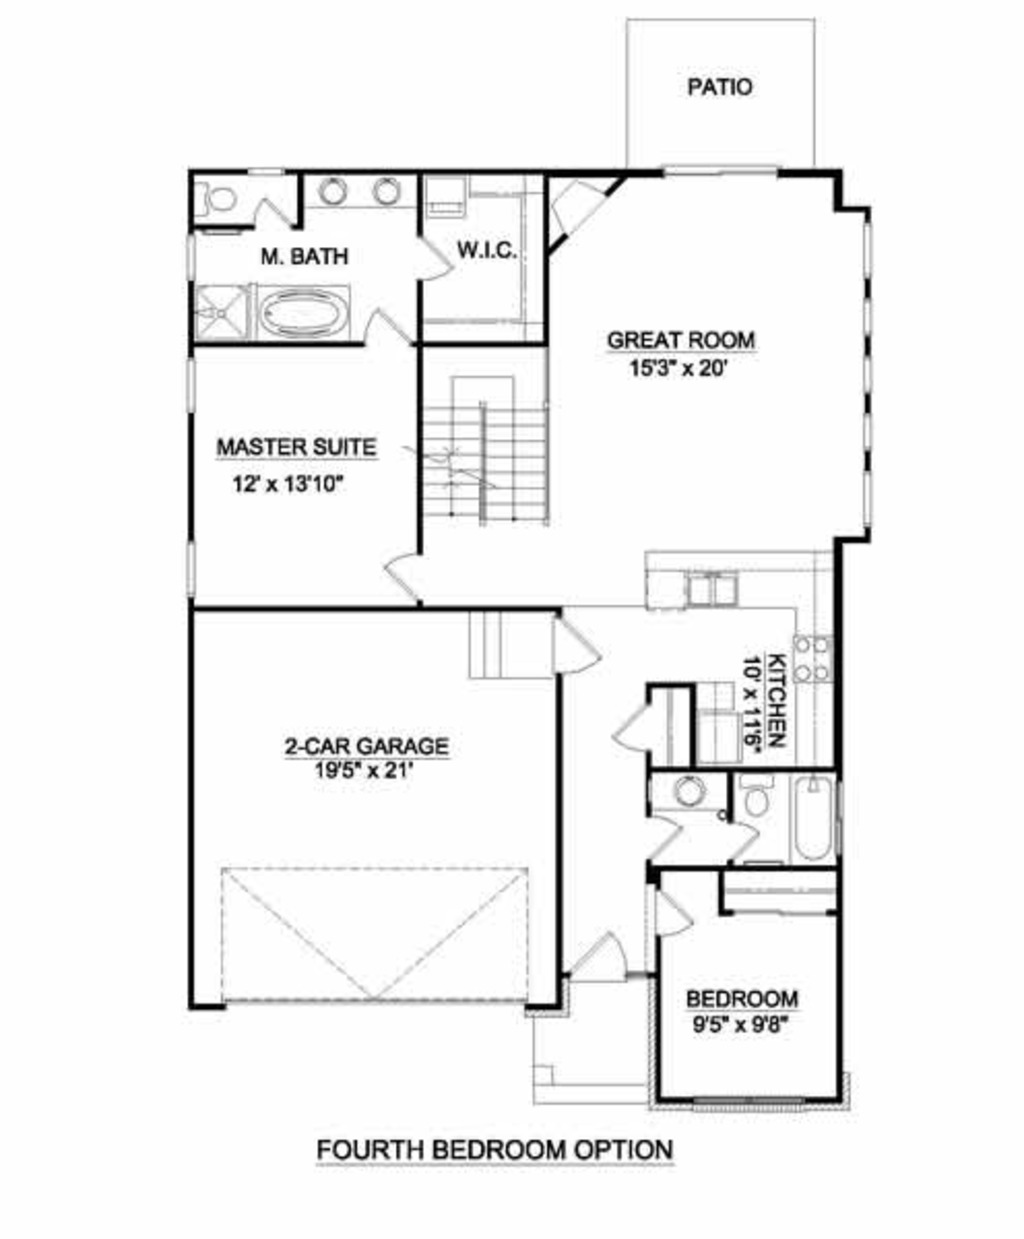door: (379, 536, 435, 608), (552, 604, 603, 676), (640, 880, 696, 945), (346, 300, 415, 348), (608, 694, 658, 759), (573, 933, 630, 986), (407, 232, 455, 286), (247, 191, 292, 227), (648, 809, 679, 860), (725, 818, 760, 860)
large_sink: (738, 763, 790, 823), (196, 172, 246, 235)
small_sink: (299, 166, 415, 204), (639, 777, 717, 813)
stairs: (417, 342, 555, 526)
tub: (256, 280, 355, 345), (799, 774, 843, 863)
window: (661, 153, 774, 186), (843, 287, 885, 345), (846, 468, 883, 528), (855, 216, 883, 285), (855, 409, 893, 458), (182, 540, 208, 607), (183, 353, 202, 417)
